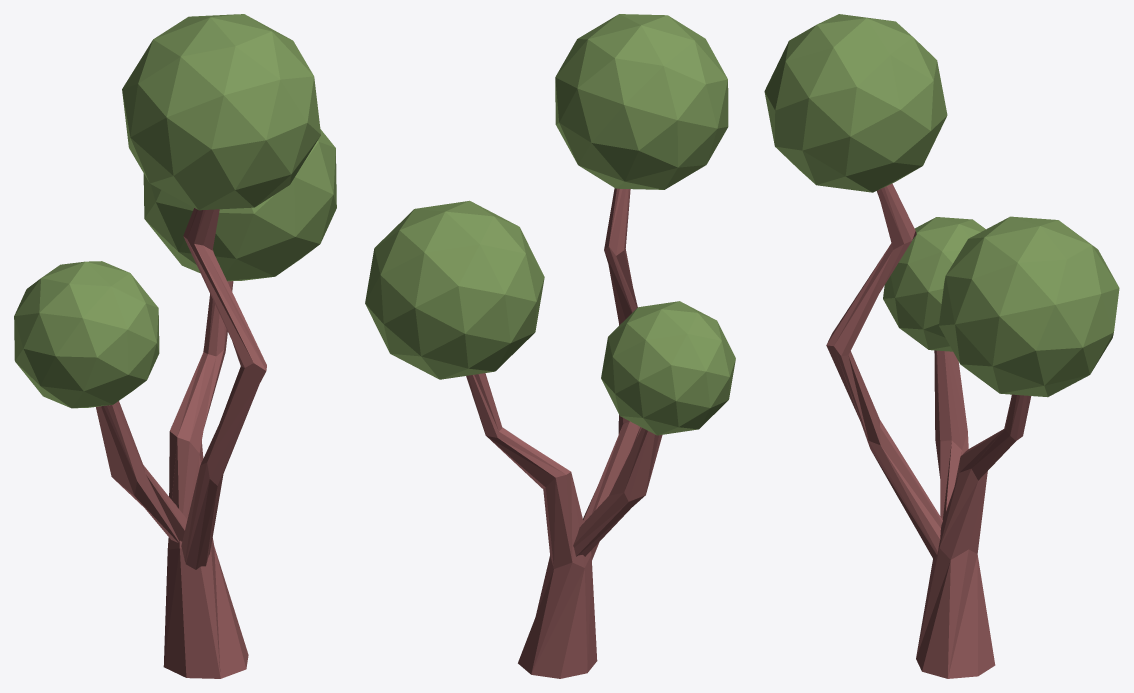
File: Poplar Tree_3.fbx
3 views of the same model, side by side, from view 1: azimuth 30°, elevation 25°; view 2: azimuth 150°, elevation 25°; view 3: azimuth 270°, elevation 25° (orthographic). The views are drawn at different scales.
Parts seen in each view (by area): view 1: Poplar Tree_3; view 2: Poplar Tree_3; view 3: Poplar Tree_3.
Boxes of the visible parts, x1,y1,x2,y2 form: Poplar Tree_3: (14,14,336,678); Poplar Tree_3: (365,14,735,678); Poplar Tree_3: (764,14,1119,678).
Bounding box in the file's own units: 3.65 × 6.87 × 3.54.
